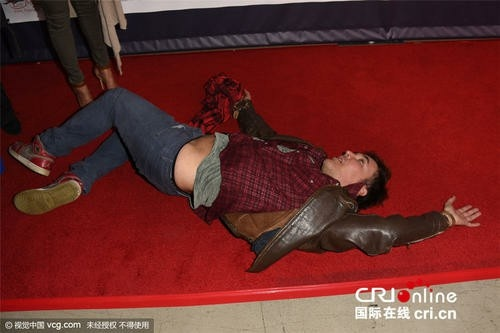falling: (8, 65, 484, 270)
